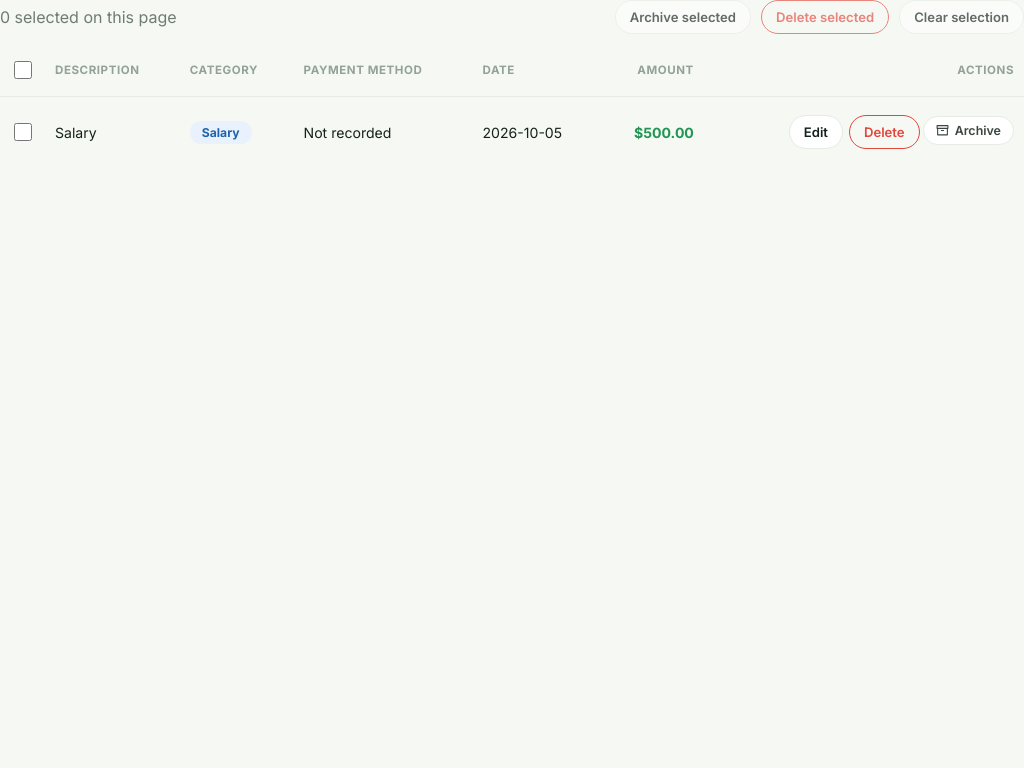
requires confirmation for deletion and leaves failure visible
This screenshot has width=1024, height=768.
Click the button with aria-label "Delete Salary".
click(884, 132)  # box x1=849 y1=115 x2=920 y2=149
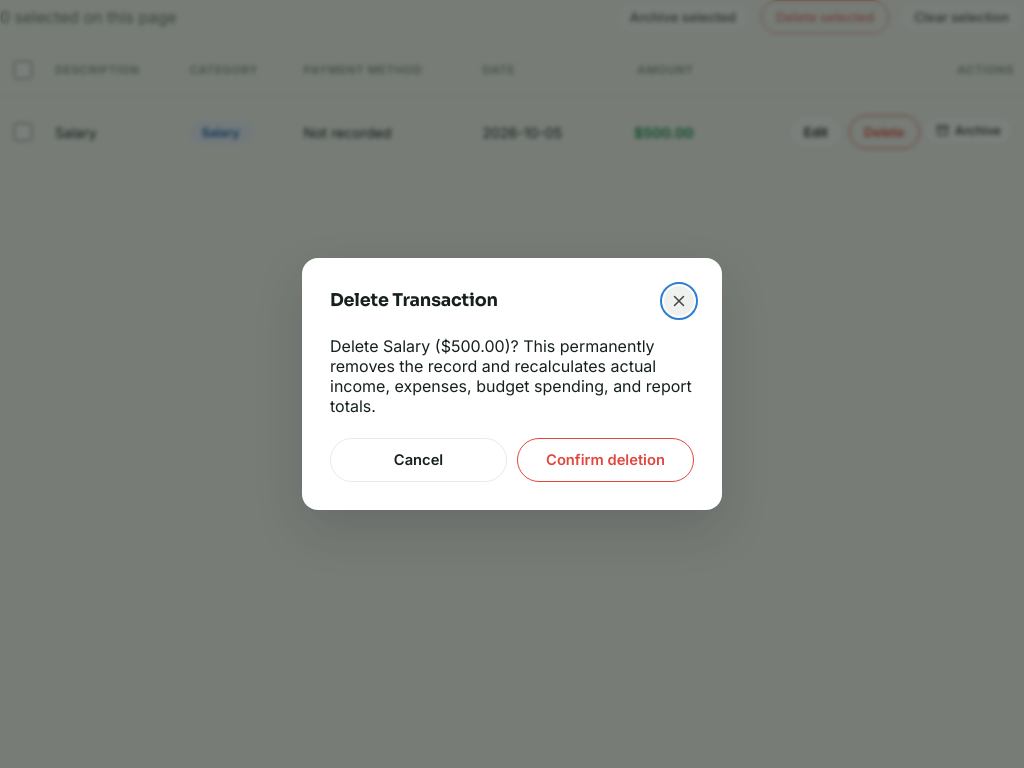
Click the button "Confirm deletion".
click(606, 460)  # box x1=517 y1=438 x2=694 y2=482
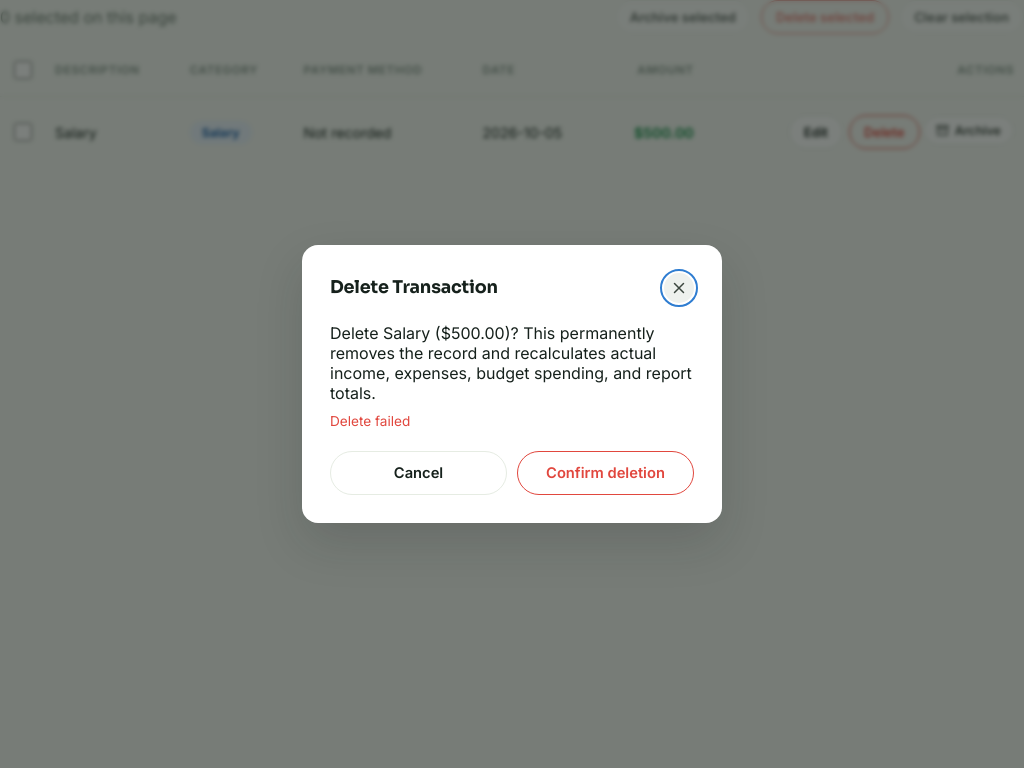
Result: the message reads "Delete failed" at x1=330 y1=413 x2=410 y2=429
